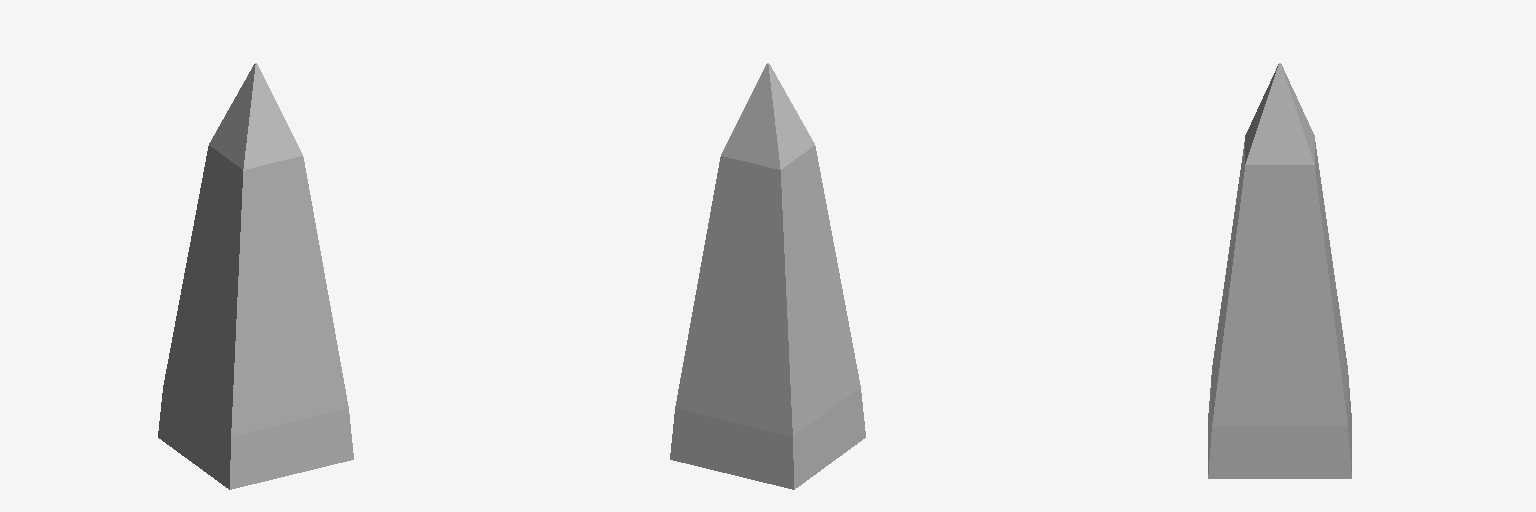
The model's file is obelisk_high.obj.
The picture shows the model from 3 angles: view 1: azimuth 30°, elevation 25°; view 2: azimuth 150°, elevation 25°; view 3: azimuth 270°, elevation 25°; orthographic projection.
Parts seen in each view (by area): view 1: Cube.001; view 2: Cube.001; view 3: Cube.001.
Boxes of the visible parts, x1=… form: Cube.001: x1=158, y1=63, x2=353, y2=489; Cube.001: x1=670, y1=63, x2=865, y2=489; Cube.001: x1=1208, y1=63, x2=1351, y2=478.
Bounding box in the file's own units: 1 × 2.96 × 1.